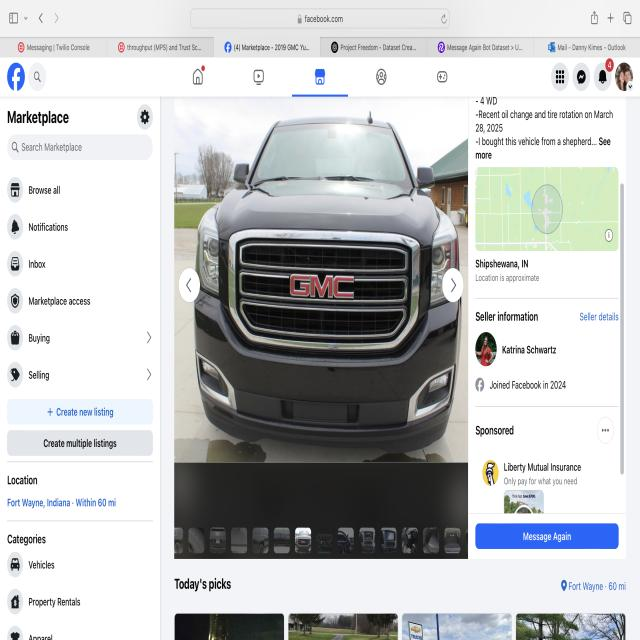message_button: (477, 522, 617, 548)
